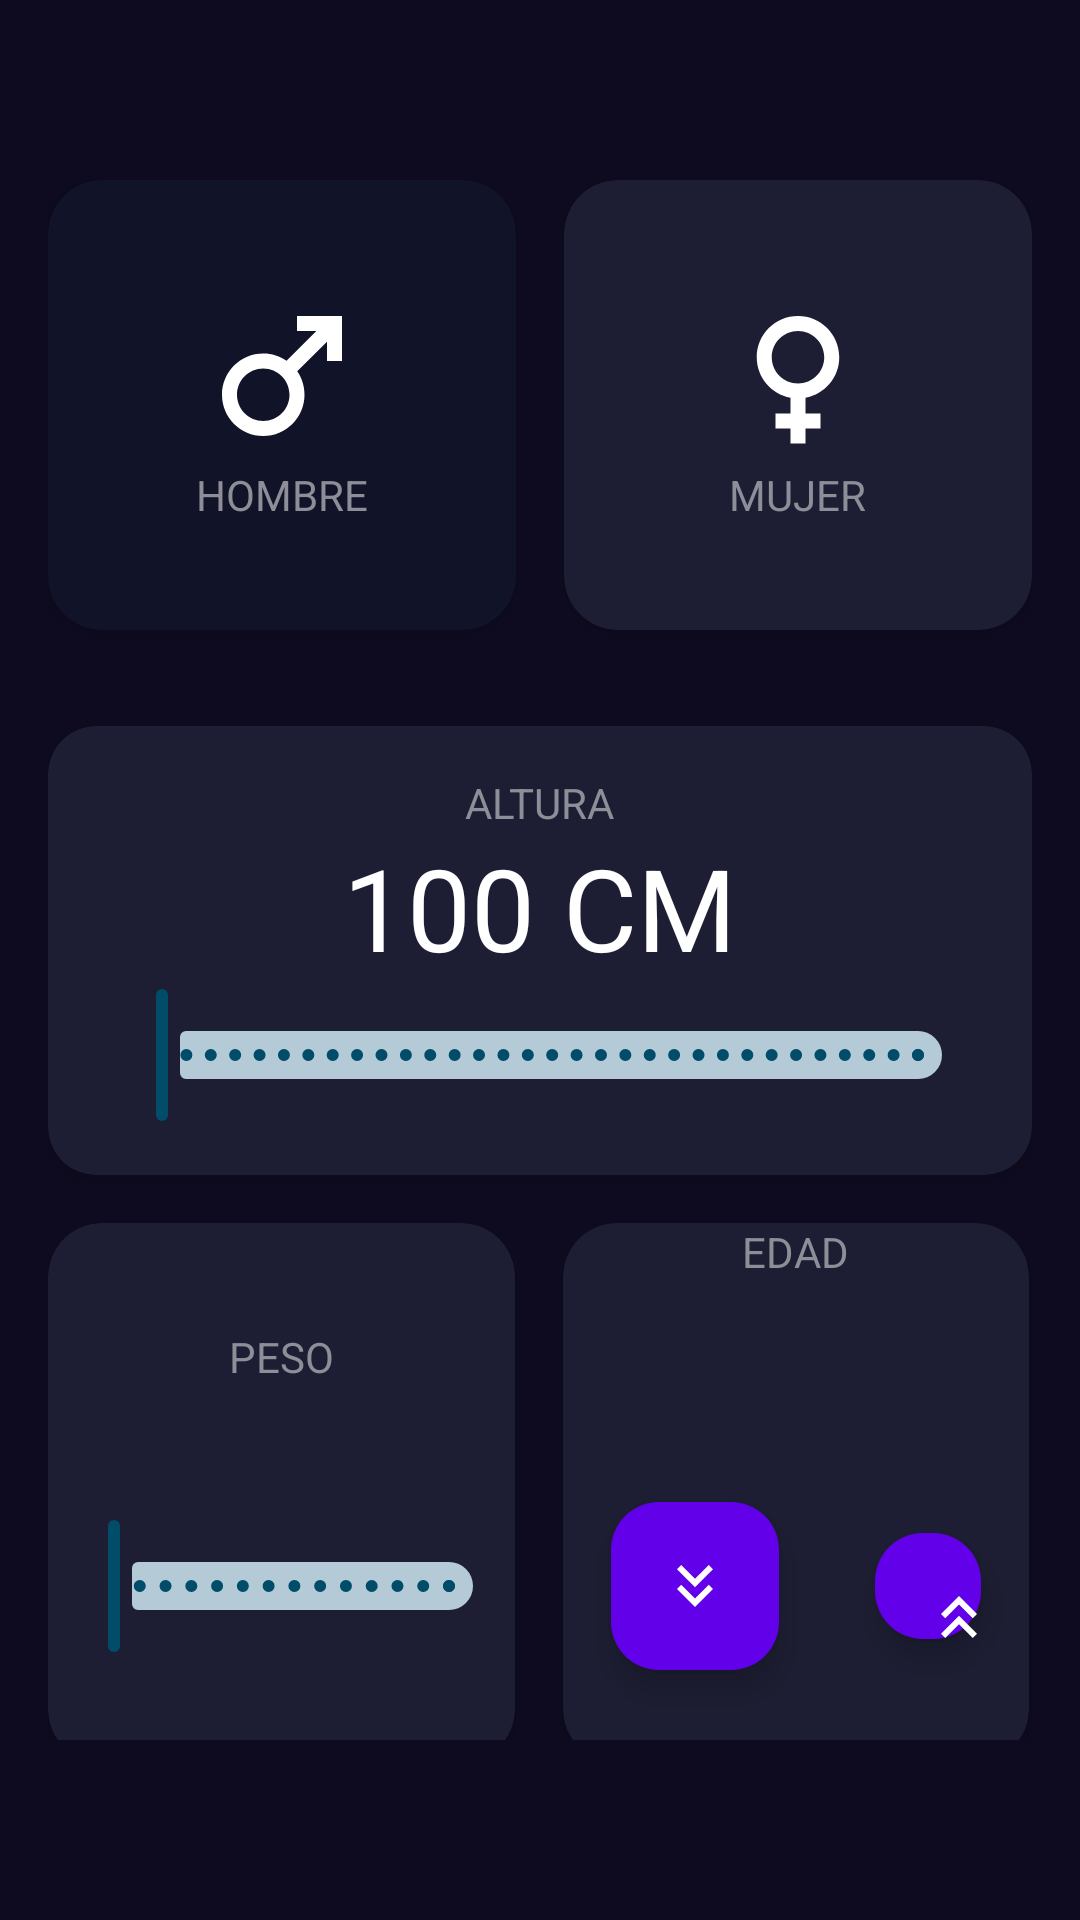

Named icons in this screenshot (1080px×1920px) and their centers, point (x, y):
add: point (928, 1586)
sub: point (695, 1586)
